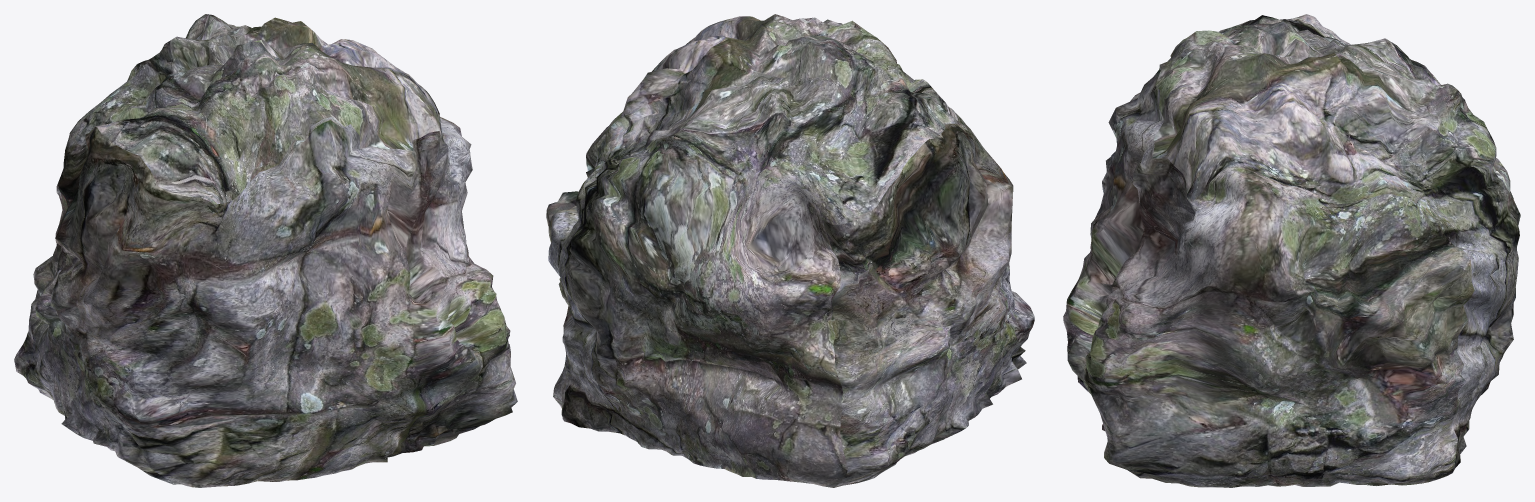
Rendered from craggyRock.fbx.
3 views of the same model, side by side, from view 1: azimuth 30°, elevation 25°; view 2: azimuth 150°, elevation 25°; view 3: azimuth 270°, elevation 25° (orthographic). The views are drawn at different scales.
Visible parts, largest first — view 1: cube; view 2: cube; view 3: cube.
Part boxes in pixels (<box>): cube: <box>14,14,517,487</box>; cube: <box>546,14,1034,487</box>; cube: <box>1063,14,1520,487</box>.
Size of the model in its own units: 247 by 222 by 241.
1 material, 1 textured.
